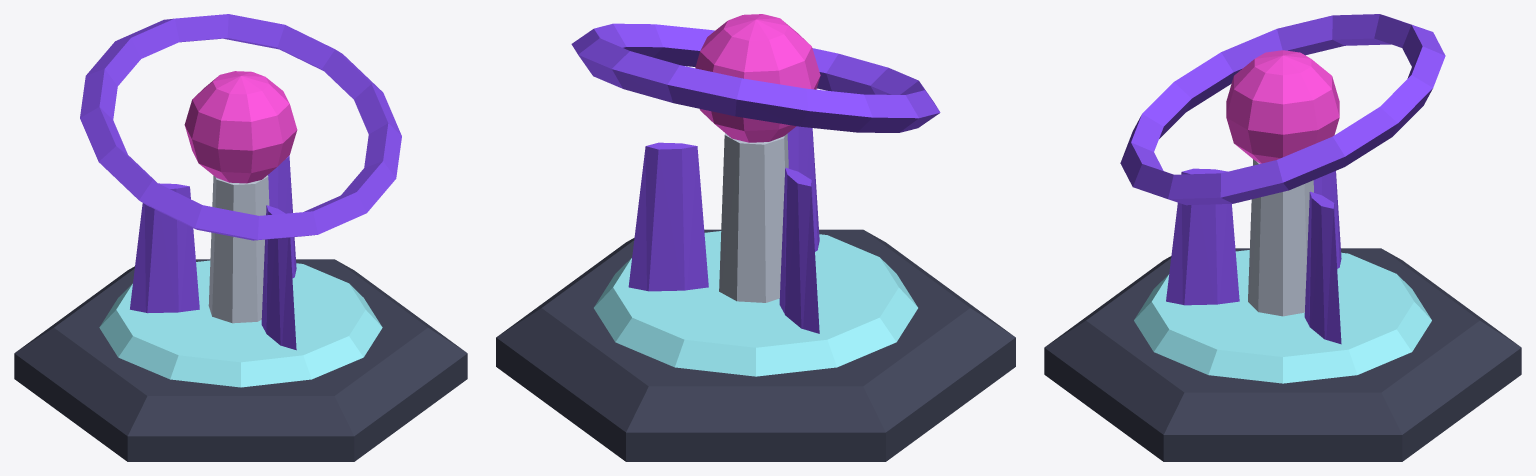
Rendered from spring.obj.
3 renders of one model, left to right at view 1: azimuth 30°, elevation 25°; view 2: azimuth 150°, elevation 25°; view 3: azimuth 270°, elevation 25°, orthographic. The views are drawn at different scales.
Visible parts, largest first — view 1: object 2, ring; view 2: object 2, ring; view 3: object 2, ring.
Boxes of the visible parts, <box> form: object 2: <box>14,71,467,461</box>; ring: <box>80,14,401,240</box>; object 2: <box>496,14,1015,461</box>; ring: <box>571,23,940,132</box>; object 2: <box>1044,50,1521,461</box>; ring: <box>1120,14,1445,205</box>.
Bounding box in the file's own units: 1.39 × 1.21 × 1.6.
